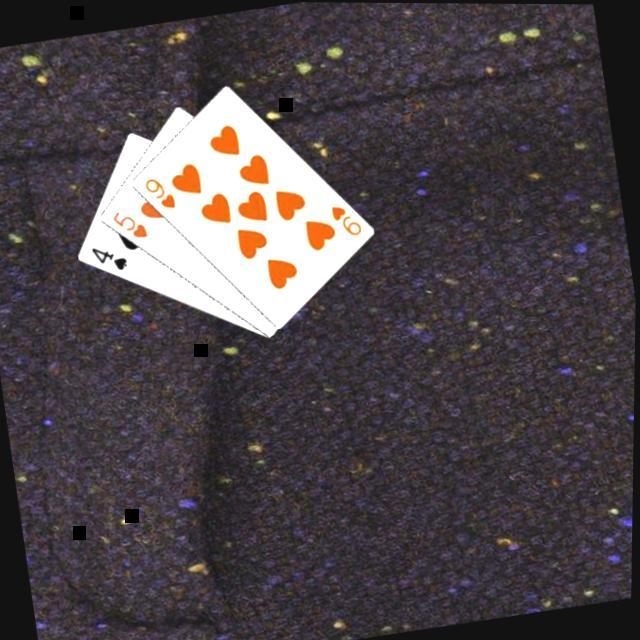4S: (86, 238, 130, 276)
5H: (106, 202, 150, 244)
9H: (138, 170, 179, 214), (324, 197, 365, 240)
